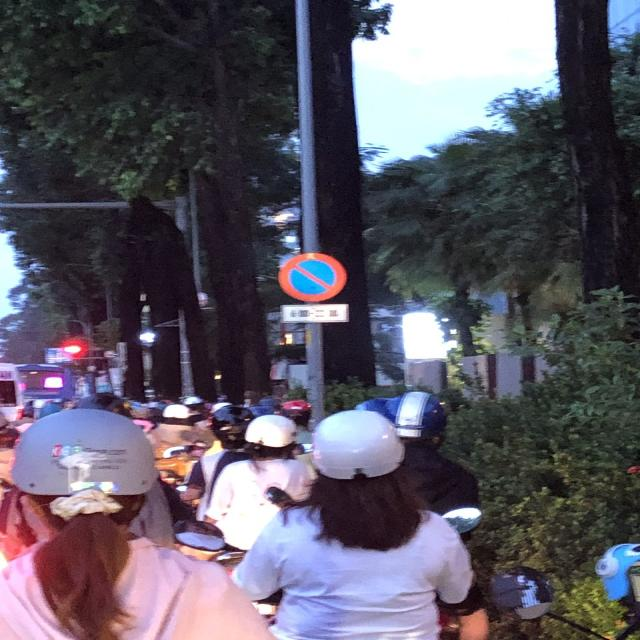Bien bao cam do xe: (271, 246, 352, 302)
